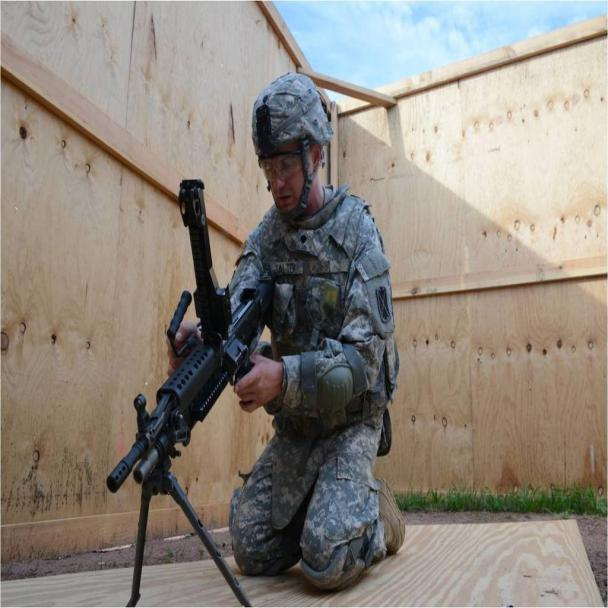Gun: (95, 168, 255, 508)
Hand: (230, 337, 298, 423)
